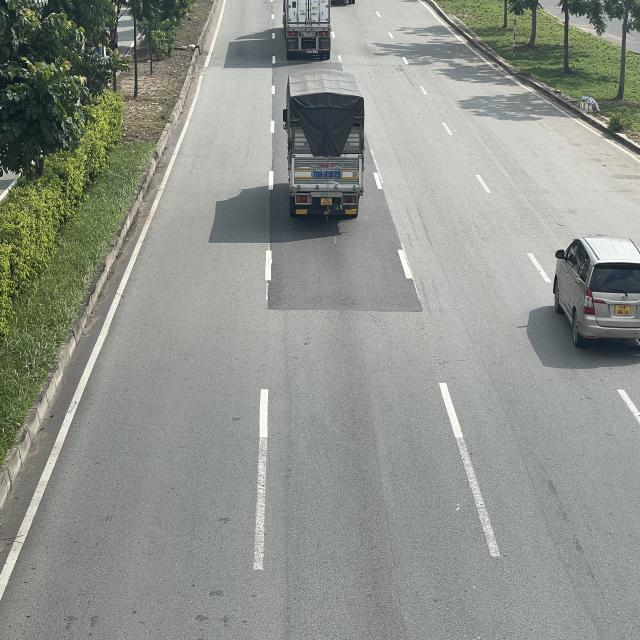car: (552, 236, 638, 349)
container: (280, 0, 331, 58)
truck: (286, 70, 368, 220)
